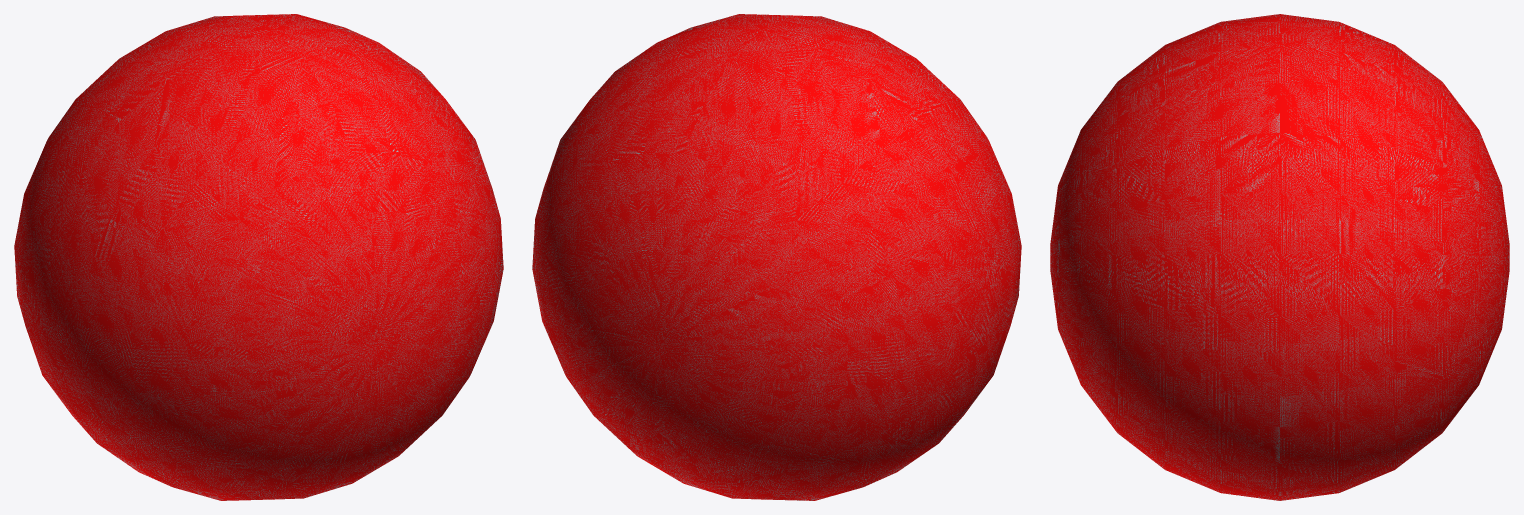
Rendered from deep.dae.
3 views of the same model, side by side, from view 1: azimuth 30°, elevation 25°; view 2: azimuth 150°, elevation 25°; view 3: azimuth 270°, elevation 25° (orthographic).
Visible parts, largest first — view 1: SketchUp; view 2: SketchUp; view 3: SketchUp.
Part boxes in pixels (<box>): SketchUp: <box>14,14,503,500</box>; SketchUp: <box>532,14,1021,500</box>; SketchUp: <box>1050,14,1509,500</box>.
Size of the model in its own units: 202 by 192 by 202.
